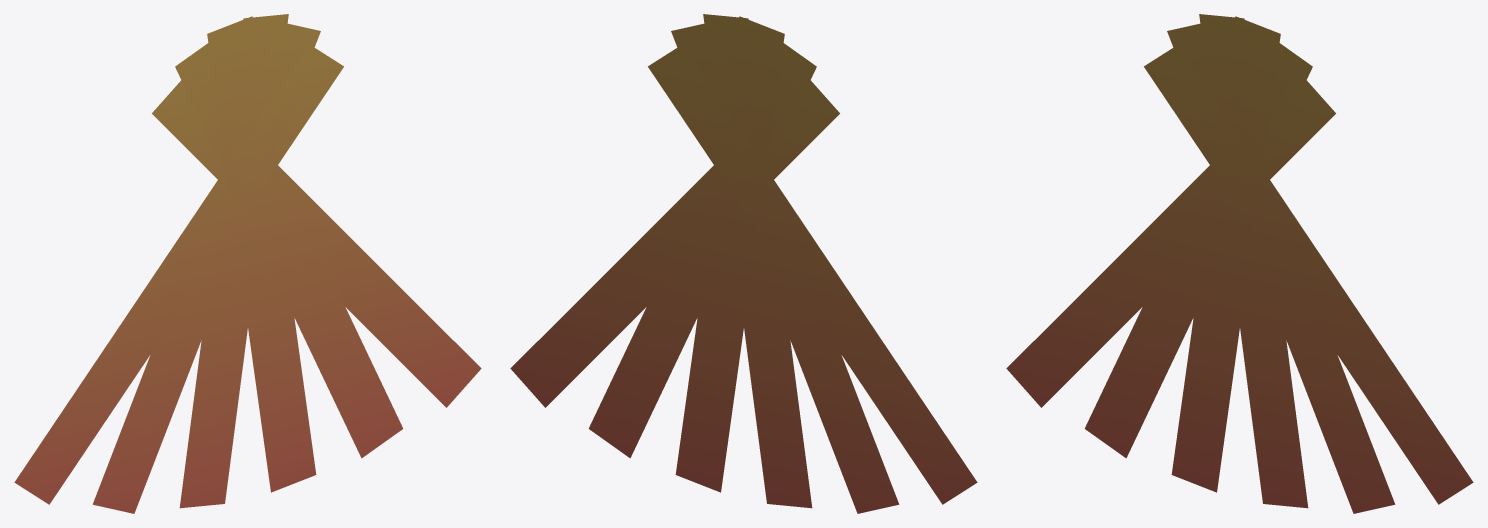
The model's file is acc_frill.glb.
The picture shows the model from 3 angles, left to right: view 1: azimuth 30°, elevation 25°; view 2: azimuth 150°, elevation 25°; view 3: azimuth 330°, elevation 25°; orthographic projection.
Bounding box in the file's own units: 1 × 0.9838 × 0.
